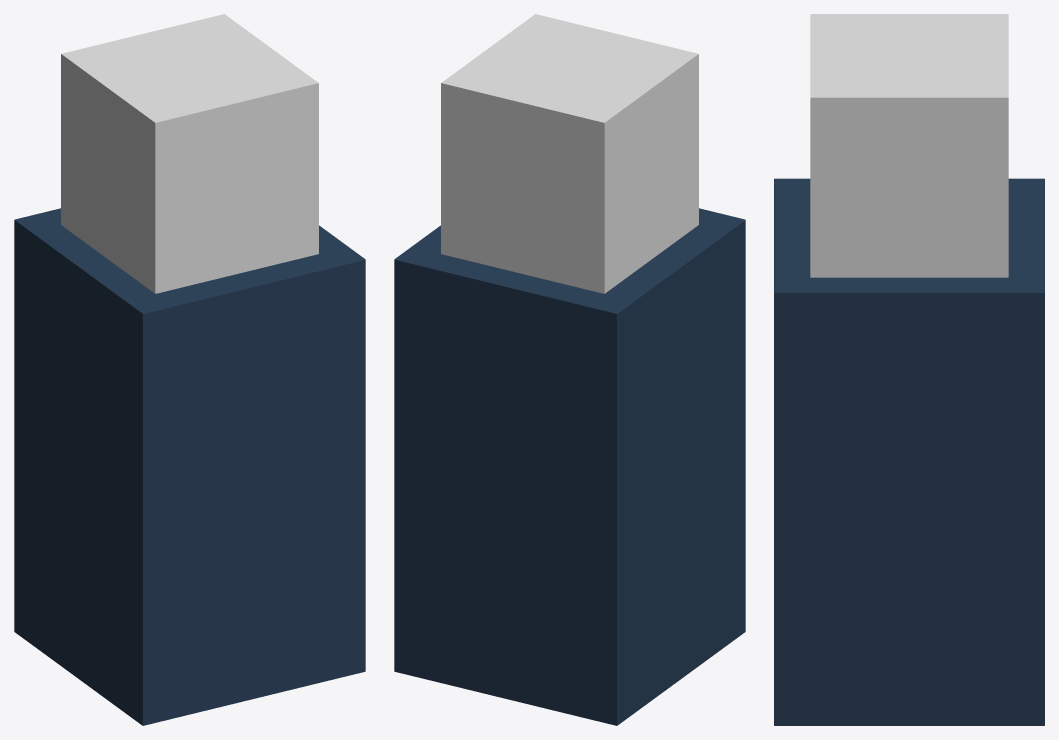
Rendered from cube_blue.glb.
3 views of the same model, side by side, from view 1: azimuth 30°, elevation 25°; view 2: azimuth 150°, elevation 25°; view 3: azimuth 270°, elevation 25° (orthographic). The views are drawn at different scales.
Visible parts, largest first — view 1: Cube, placeholder; view 2: Cube, placeholder; view 3: Cube, placeholder.
Boxes of the visible parts, x1=… form: Cube: x1=14, y1=208, x2=365, y2=725; placeholder: x1=61, y1=14, x2=318, y2=293; Cube: x1=394, y1=208, x2=745, y2=725; placeholder: x1=441, y1=14, x2=698, y2=293; Cube: x1=774, y1=178, x2=1044, y2=725; placeholder: x1=810, y1=14, x2=1008, y2=277.
Size of the model in its own units: 2 by 5 by 2.
